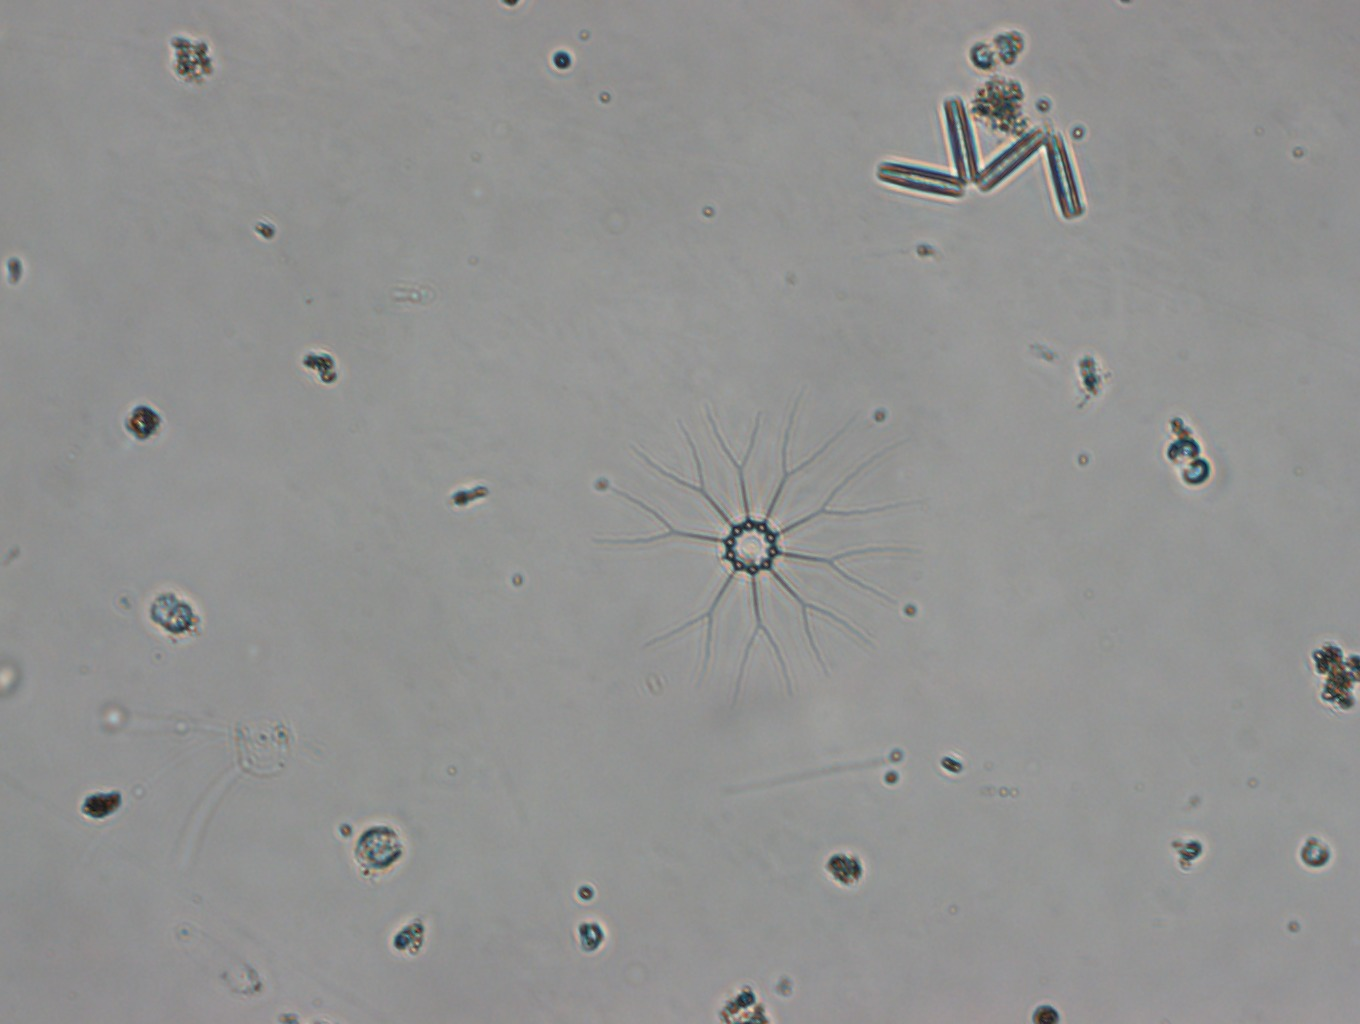bacteriastrum: (601, 398, 912, 696)
thalassionema nitzschioides: (872, 95, 1092, 219)
